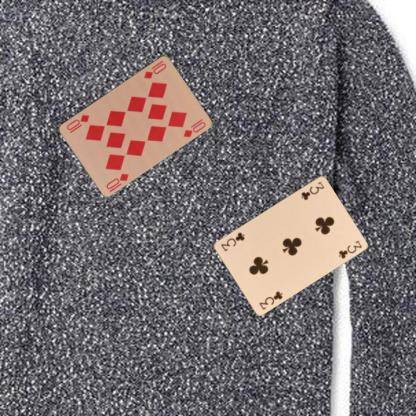10d: (142, 58, 168, 80), (103, 171, 130, 190)
3c: (256, 288, 284, 311), (299, 179, 325, 201)
